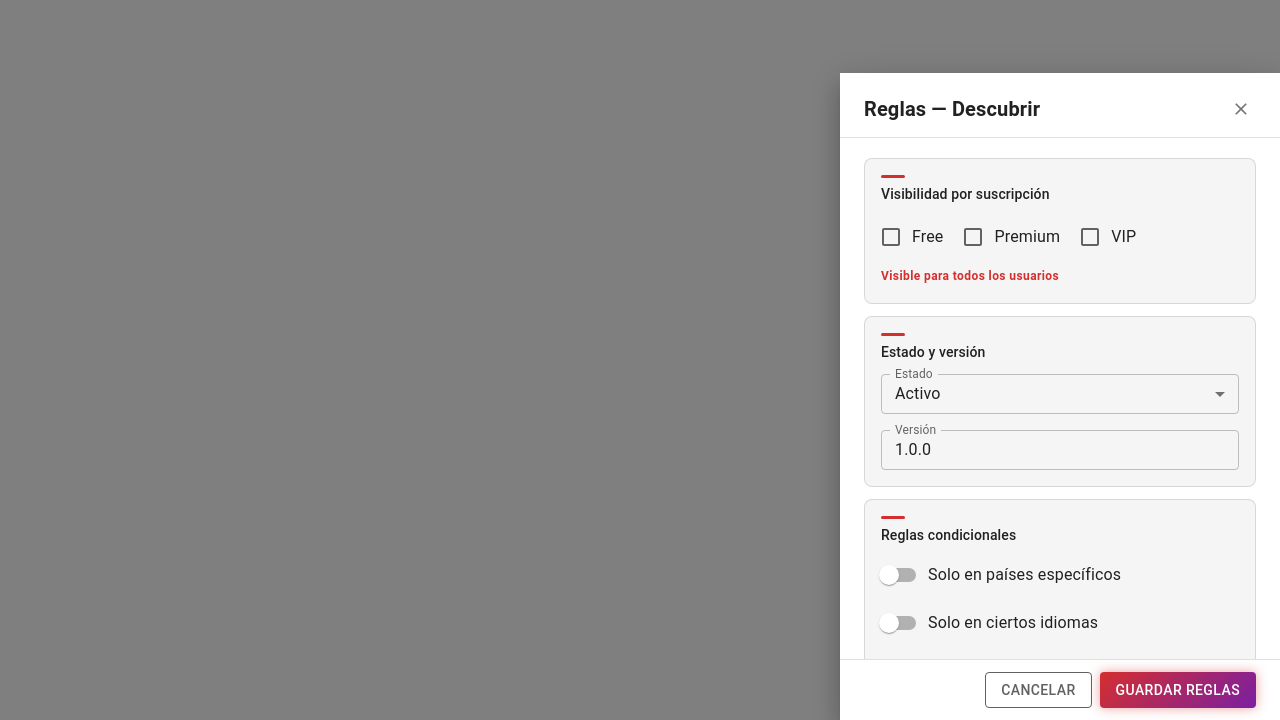
RulesDrawer › announces an enabled rule with a contextual badge
Expected: the text "Regla aplicada:" is not shown
Click the switch named "Regla de geografía": (1000, 575) [879, 565, 1121, 585]
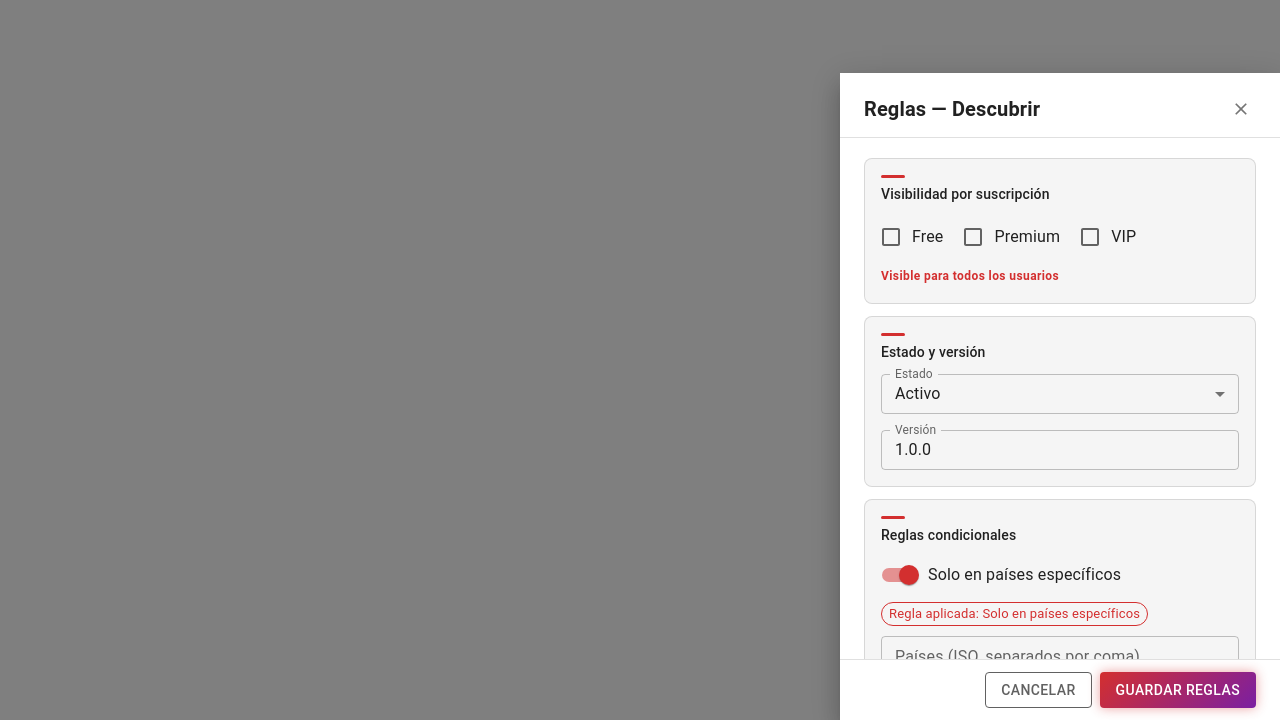
Expected: the text "Regla aplicada: Solo en países específicos" is shown, [882, 604, 1147, 624]
Click the switch named "Regla de geografía": (1002, 575) [882, 565, 1121, 585]
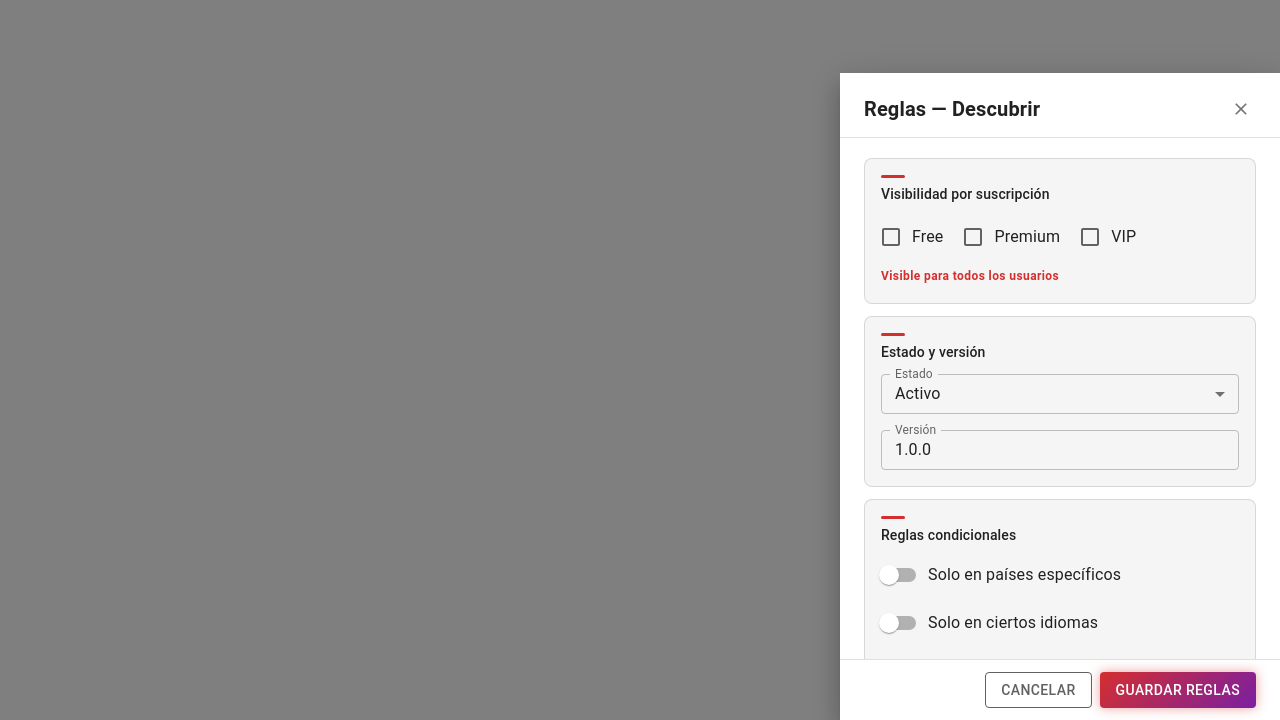
Expected: the text "Regla aplicada:" is gone
